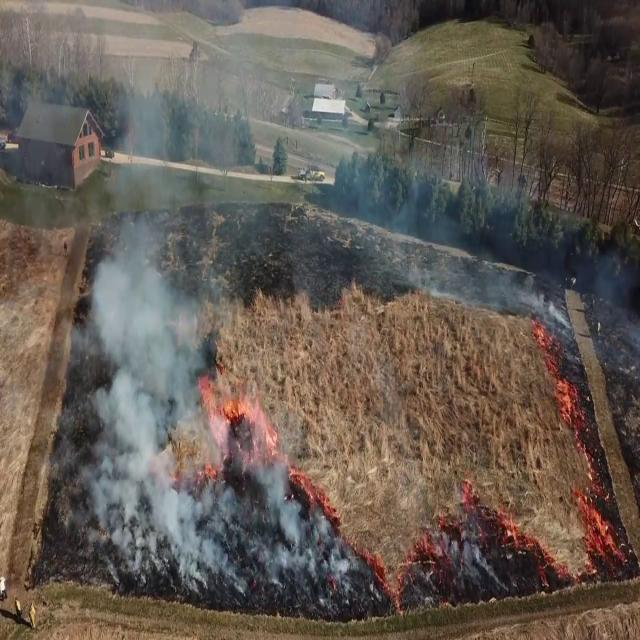Fire: (190, 367, 289, 471)
Smoke: (65, 18, 318, 594)
